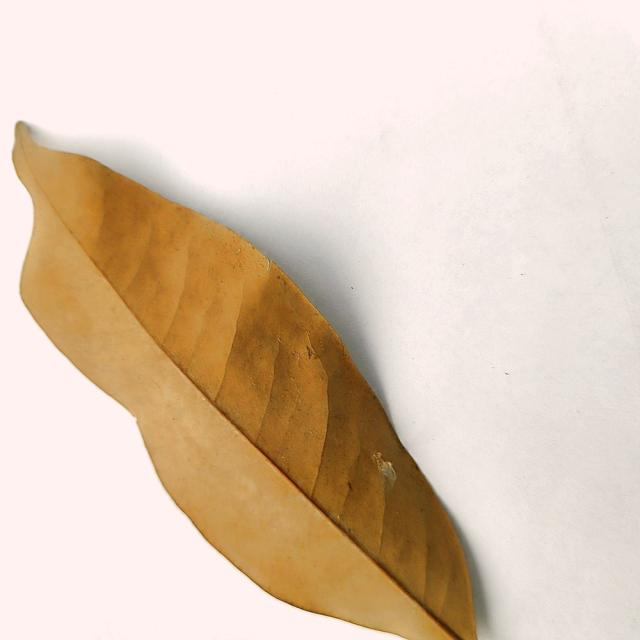Dry_Leaf-Lychee: (10, 123, 482, 639), (10, 123, 481, 639)
